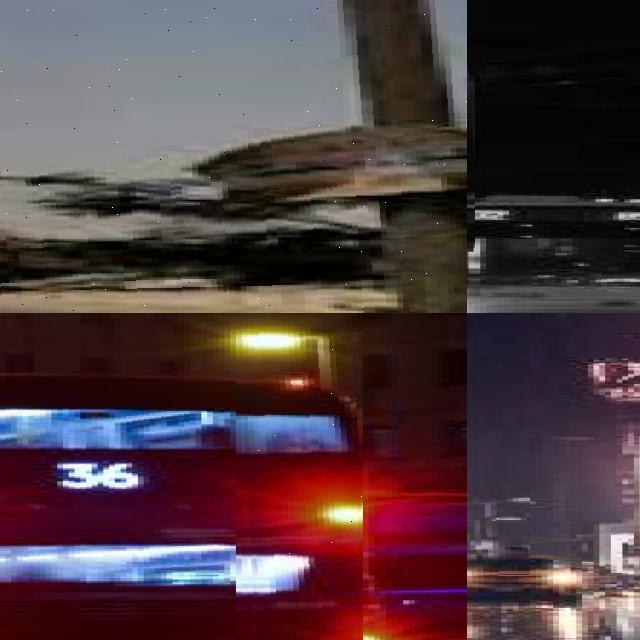street light: (0, 0, 467, 313), (236, 332, 363, 640), (467, 496, 530, 577), (467, 520, 504, 569)
